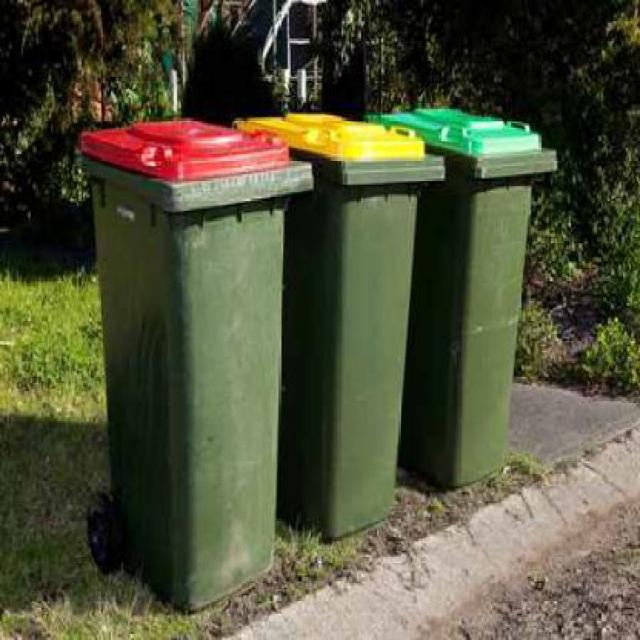garbage container: (73, 113, 319, 624), (276, 108, 449, 575), (395, 99, 563, 501)
